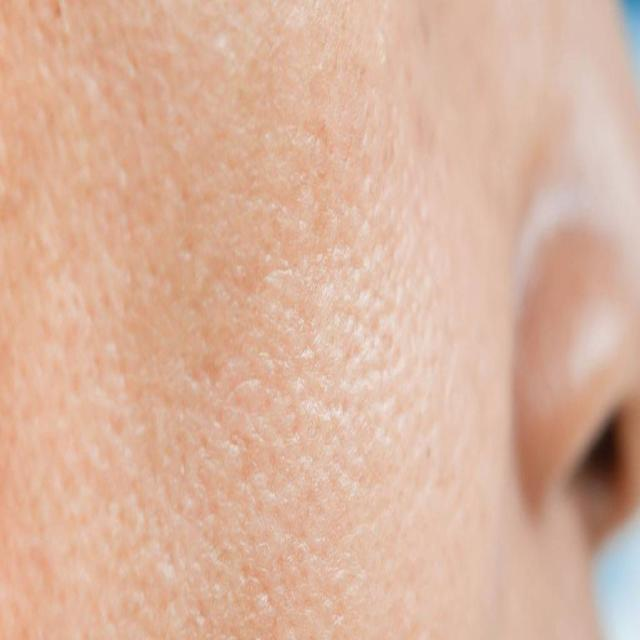Englarged-Pores: (135, 100, 404, 458)
Oily-Skin: (45, 51, 593, 570)
